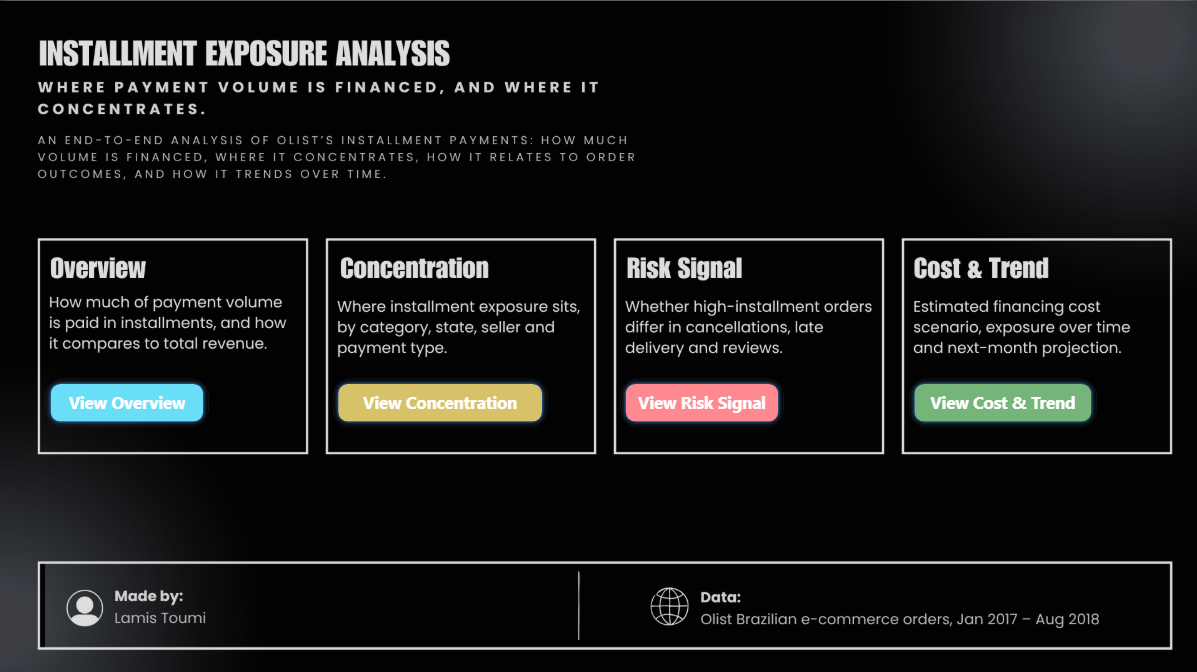

The dashboard page shown, as its layout file describes it:
{"tool":"powerbi","page":{"name":"Home page ","canvas":[1920,1080],"ordinal":0},"visuals":[{"type":"actionButton","title":"View Overview","box":[73.6,603.8,261.9,77.9],"z":0},{"type":"actionButton","title":"View Overview","box":[534.5,603.8,344.1,77.9],"z":1000},{"type":"actionButton","title":"View Overview","box":[993.3,603.8,261.9,77.9],"z":2000},{"type":"actionButton","title":"View Overview","box":[1456.5,603.8,300.8,77.9],"z":3000}]}

Visuals, with their boxes in screenshot pixels (x1, y1, x2, y2), scaled from the page's 1920x1080 canvas onto the 1197x672 screenshot:
"View Overview" actionButton: <bbox>46, 376, 209, 424</bbox>
"View Overview" actionButton: <bbox>333, 376, 548, 424</bbox>
"View Overview" actionButton: <bbox>619, 376, 783, 424</bbox>
"View Overview" actionButton: <bbox>908, 376, 1096, 424</bbox>
